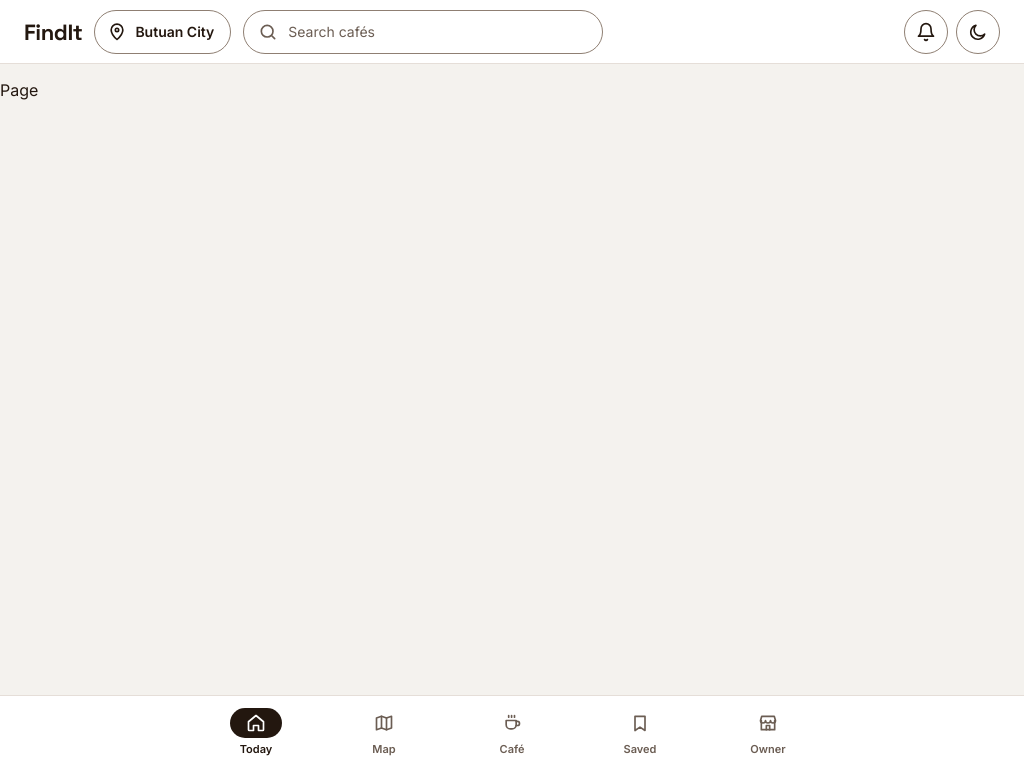
Alerts › explains an empty list
What coordinates should you click on to do the following:
click the button named "Alerts"
I would click on:
 (926, 32)
Its box is [904, 10, 948, 54].
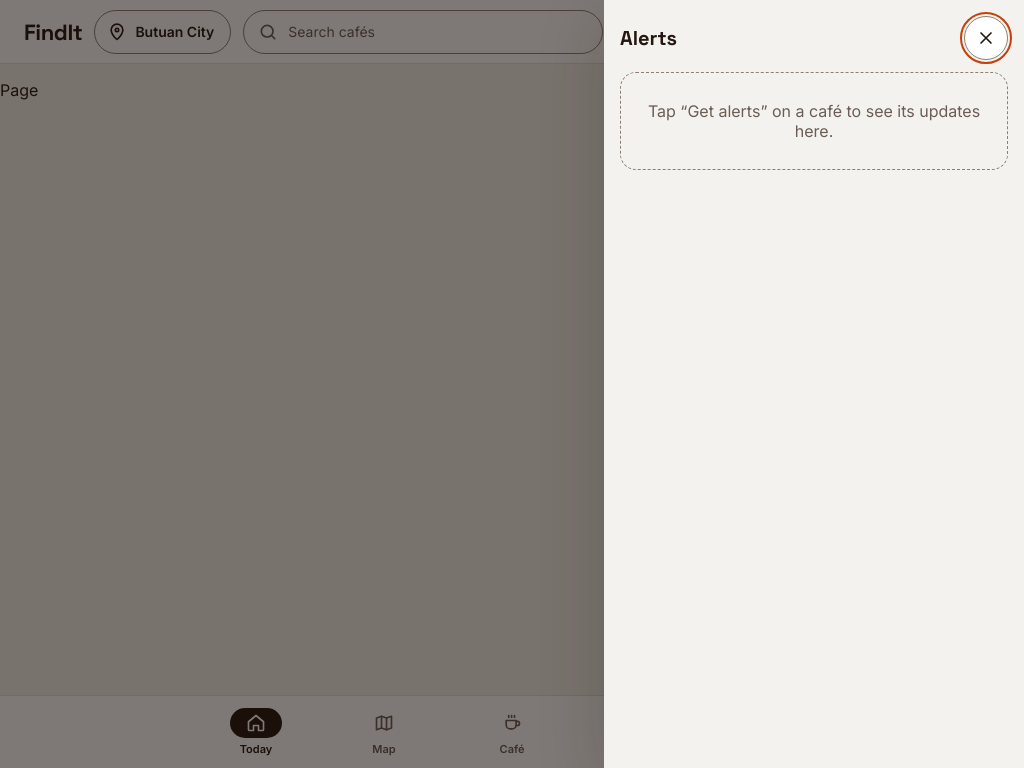
Expected: the text "Tap “Get alerts” on a café to see its updates here." is shown, [620, 72, 1008, 170]
